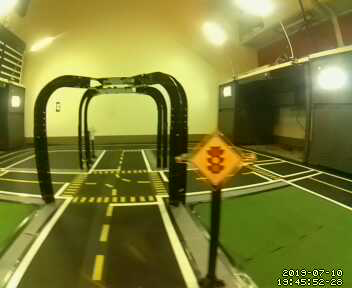Traffic light sign: (192, 132, 244, 188)
